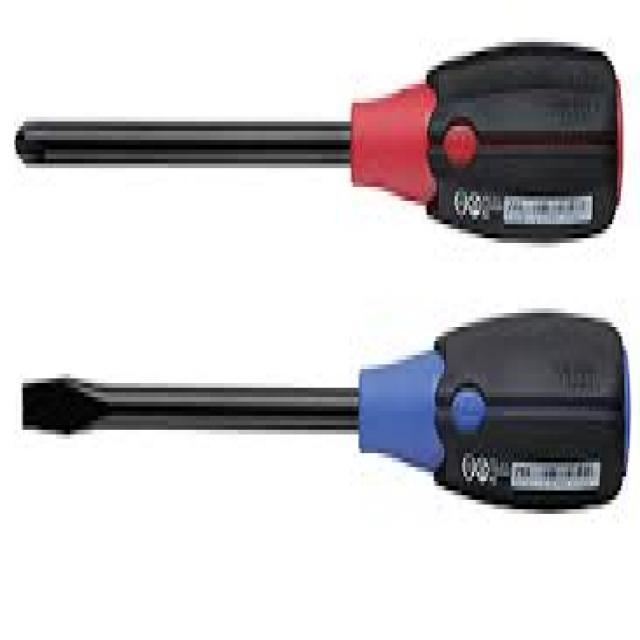screwdriver: (16, 299, 634, 514), (12, 35, 626, 241)
